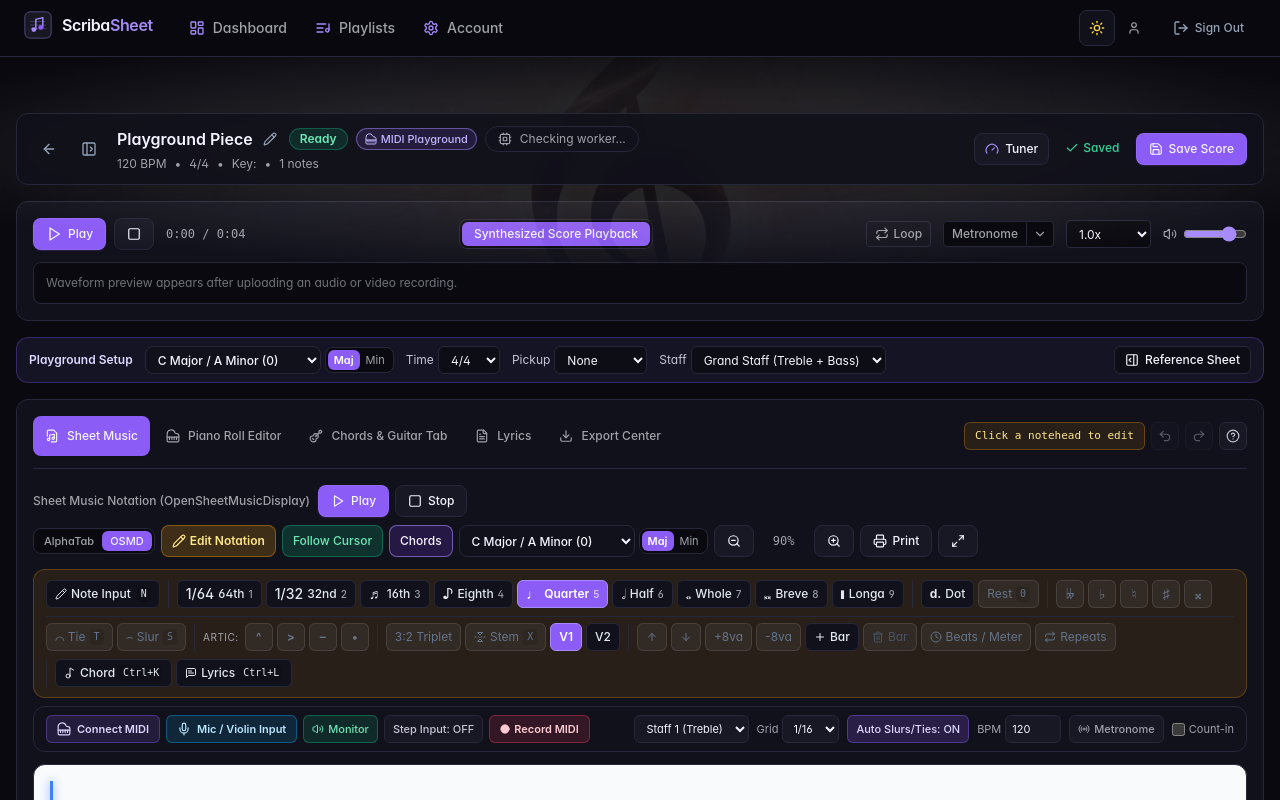
Scenario: Key Signatures, Enharmonic Spelling, and Keyboard Deletion › handles explicit key change choices (Respell vs Transpose), legacy fallback, synced selectors, and Undo/Redo in Studio
Later steps or results of the test are not shown.
Expected: the dropdown named "Key Signature" in the row of "90" shows "C Major / A Minor (0)", [459,525,635,557]
// Switching key on populated score opens explicit choice dialog without mutating first
Select "B♭ Major / G Minor (2♭)" in the dropdown named "Key Signature" next to "Playground Setup" at x=233, y=360, box [145,346,321,374]
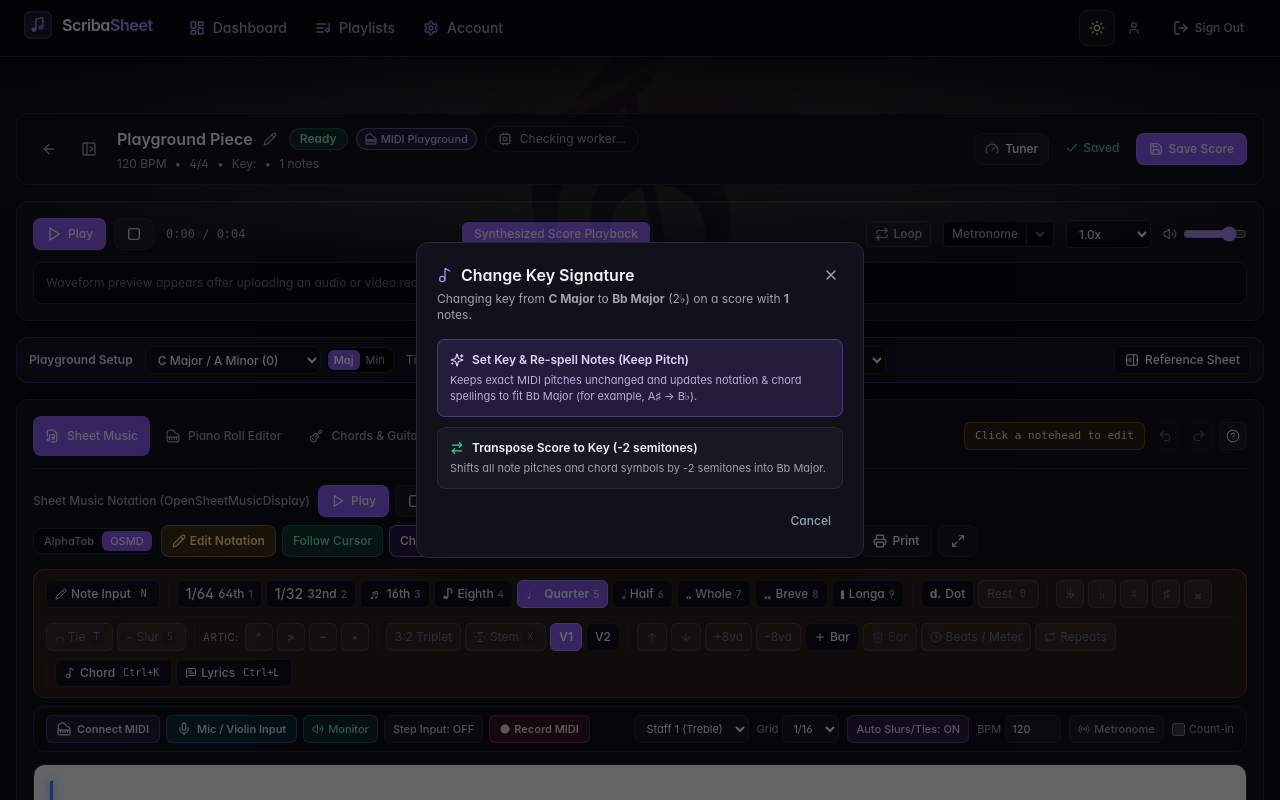
Expected: the button with test id "key-change-respell-btn" is shown
Expected: the button with test id "key-change-transpose-btn" is shown, [437,427,843,489]
Click the button with test id "key-change-respell-btn" at x=640, y=378, box [437,339,843,417]
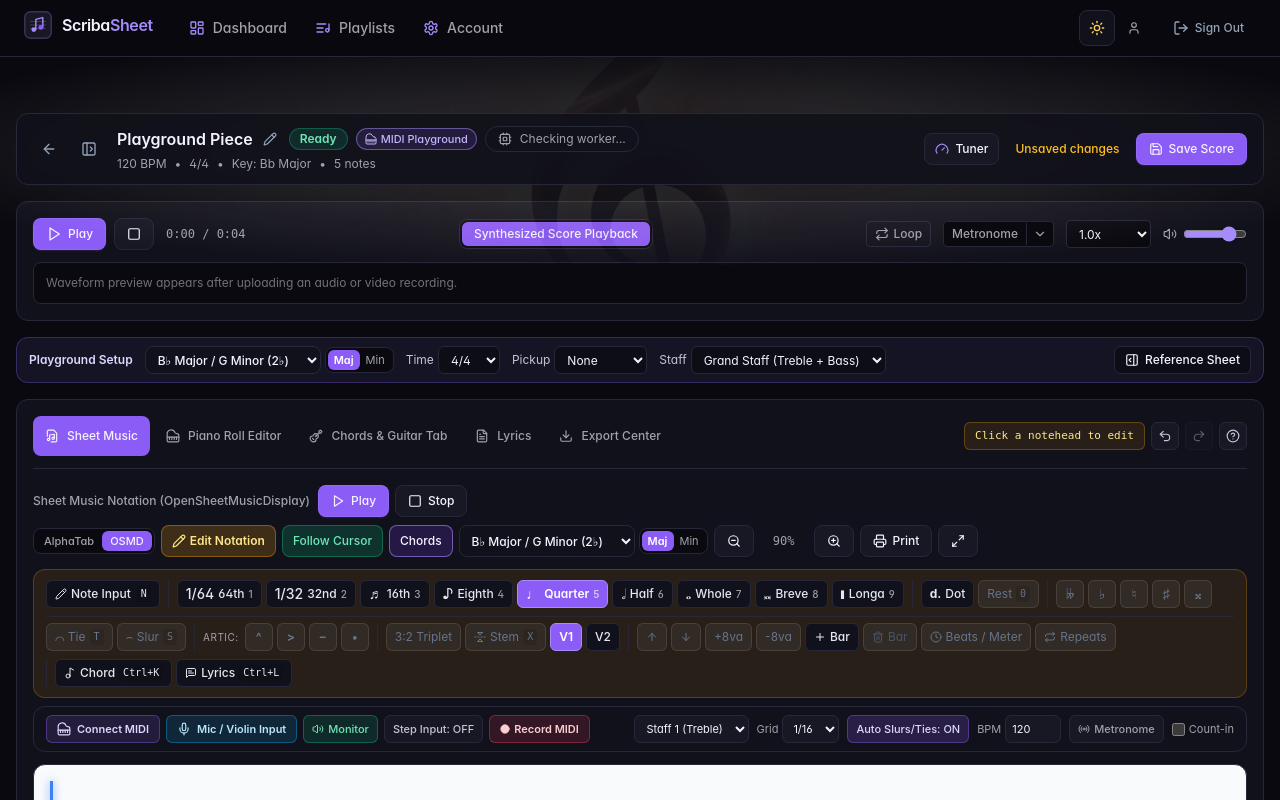
Expected: the dropdown named "Key Signature" in the row of "90" shows "B♭ Major / G Minor (2♭)"
Expected: the text "Key: Bb Major" is shown, [232,156,311,172]
Select "D Major / B Minor (2♯)" in the dropdown named "Key Signature" in the row of "90" at x=547, y=541, box [459,525,635,557]
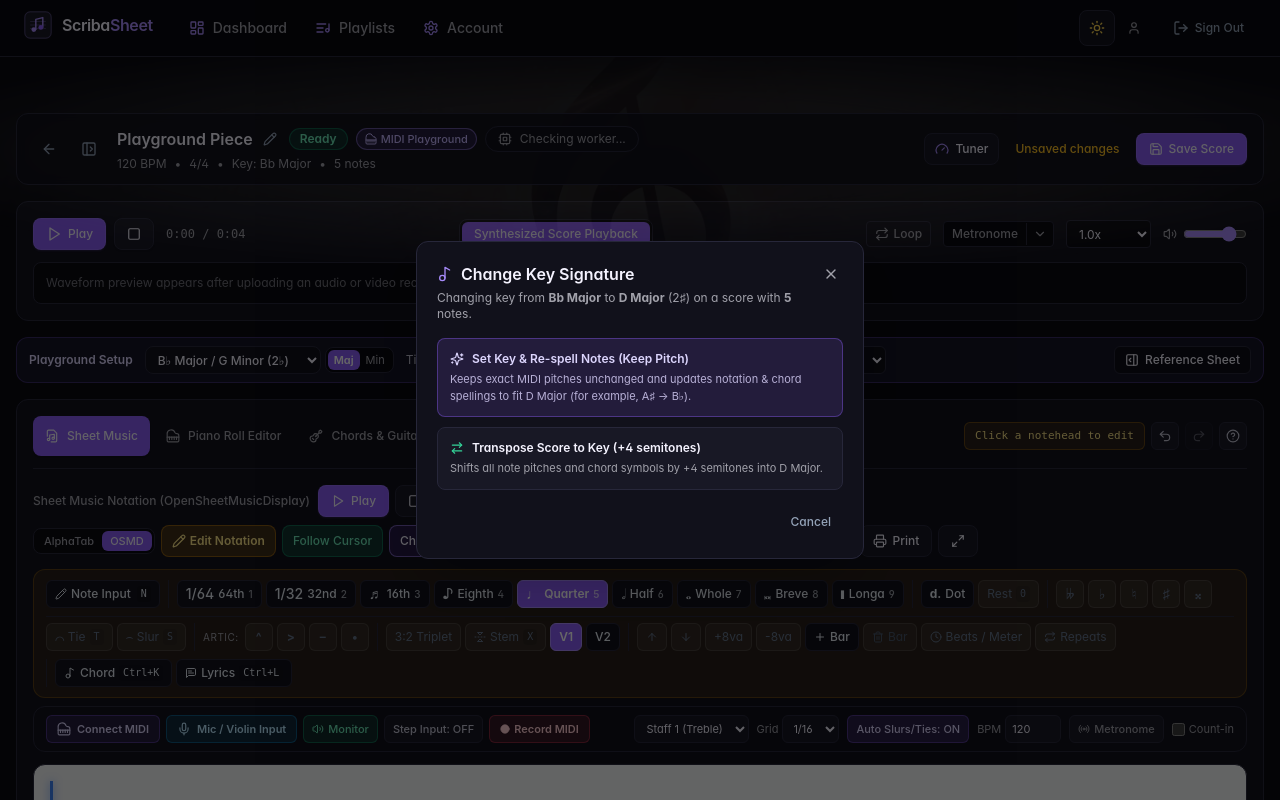
Expected: the dialog with test id "key-change-dialog" is shown
